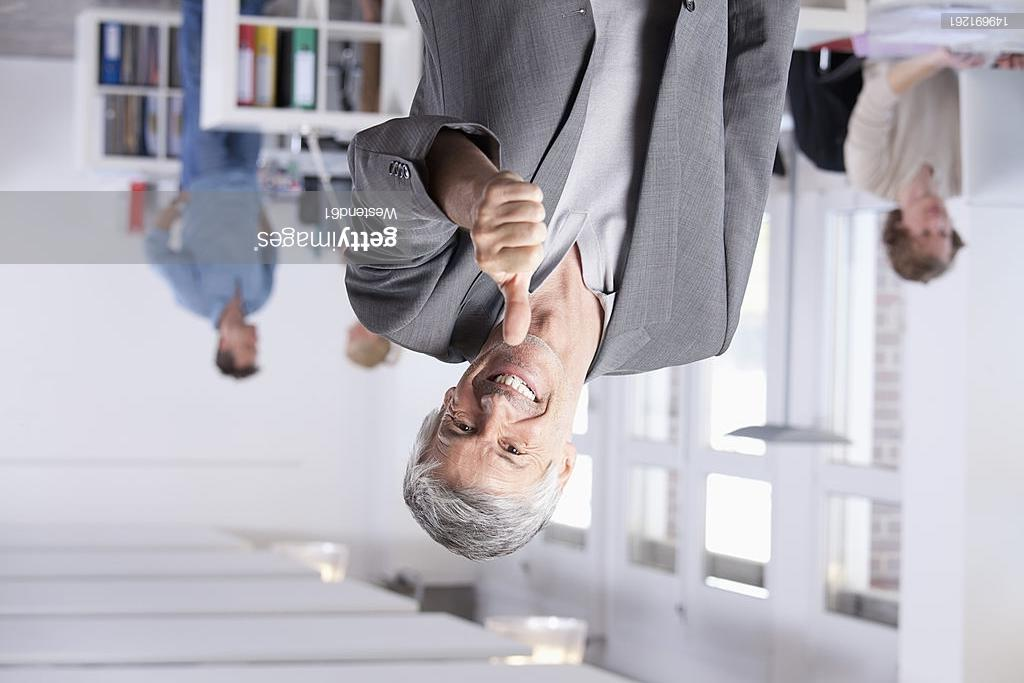thumbsdown: (469, 179, 549, 346)
